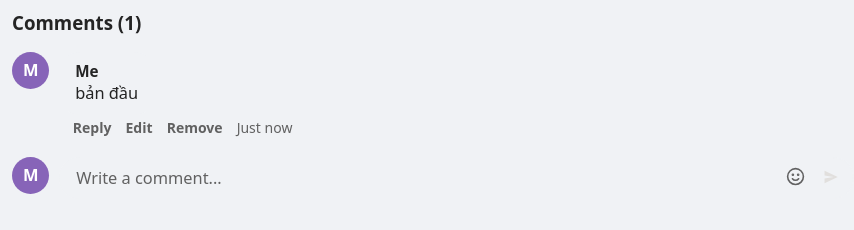
Scenario: TaskComments › should_editComment_withEnter_andShowEditedMark
Click the button "Edit" at (139, 129), box [126,119,153,138]
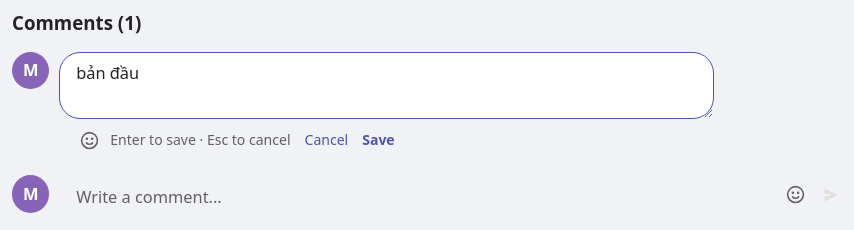
Check: the text box with test id "edit-input" holds "bản đầu"
Replace the text in the text box with test id "edit-input" with "bản sửa" at (386, 85), box [59,52,714,119]
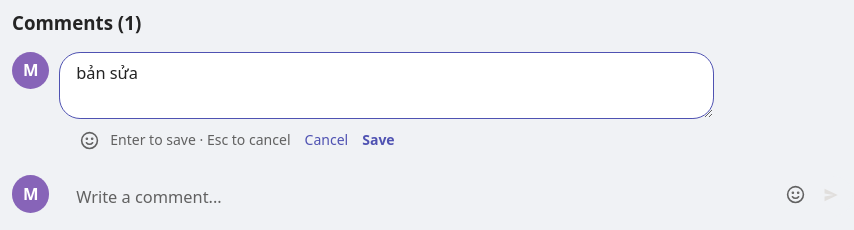
Press Enter in the text box with test id "edit-input", box [59,52,714,119]
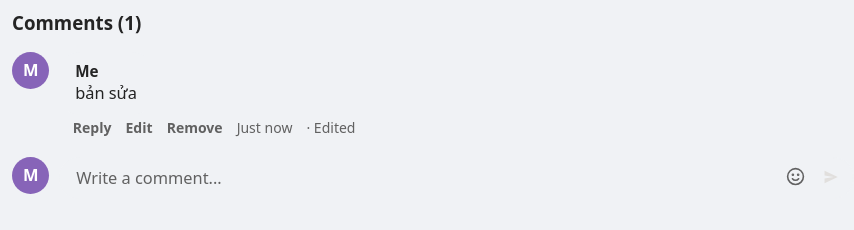
Check: the text "bản sửa" is shown, box [75,82,137,105]
Check: the element with class "meta" shows "Edited", box [306,118,356,137]
